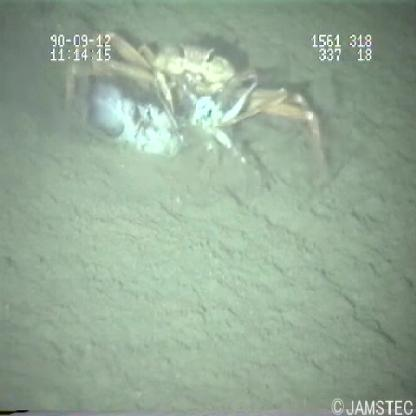Bio: (59, 25, 329, 178)
